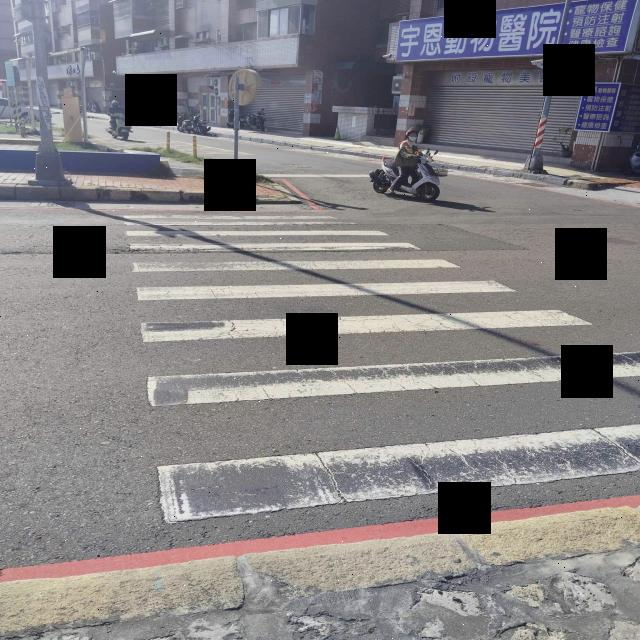person: (385, 128, 418, 195)
zebra crossing: (122, 220, 640, 530)
